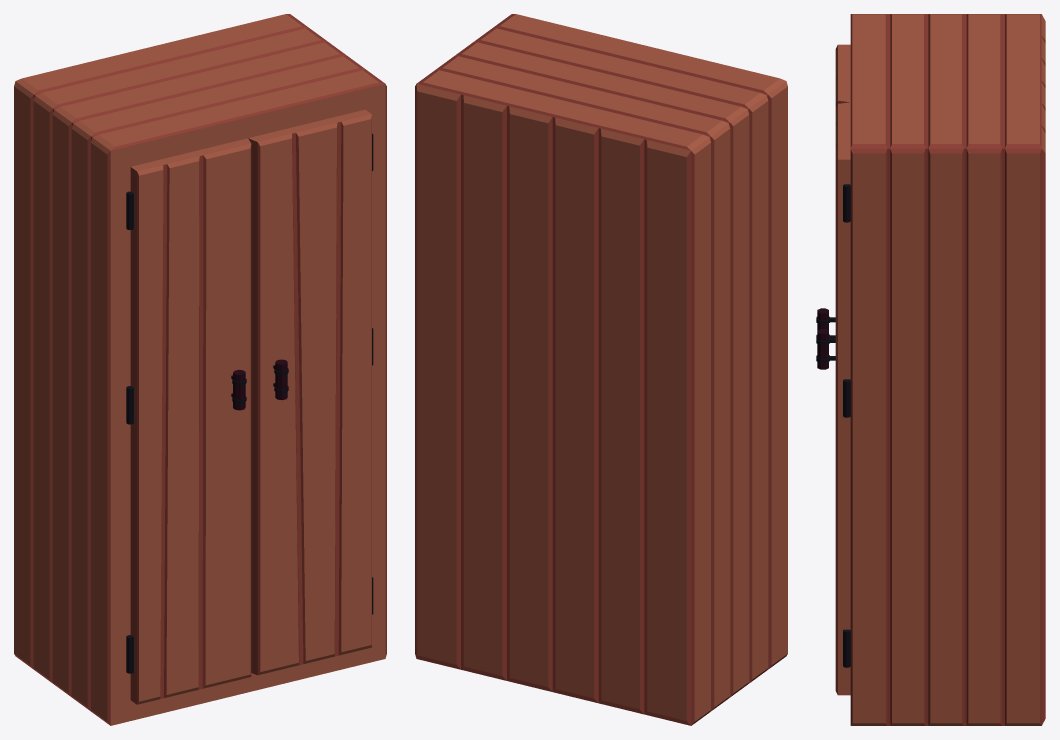
File: wardrobe.fbx
3 renders of one model, left to right at view 1: azimuth 30°, elevation 25°; view 2: azimuth 150°, elevation 25°; view 3: azimuth 270°, elevation 25°, orthographic.
Parts seen in each view (by area): view 1: wardrobe; view 2: wardrobe; view 3: wardrobe.
Boxes of the visible parts, <box> form: wardrobe: <box>14,14,386,725</box>; wardrobe: <box>415,14,787,725</box>; wardrobe: <box>816,14,1045,725</box>.
Bounding box in the file's own units: 102 × 201 × 71.91.
